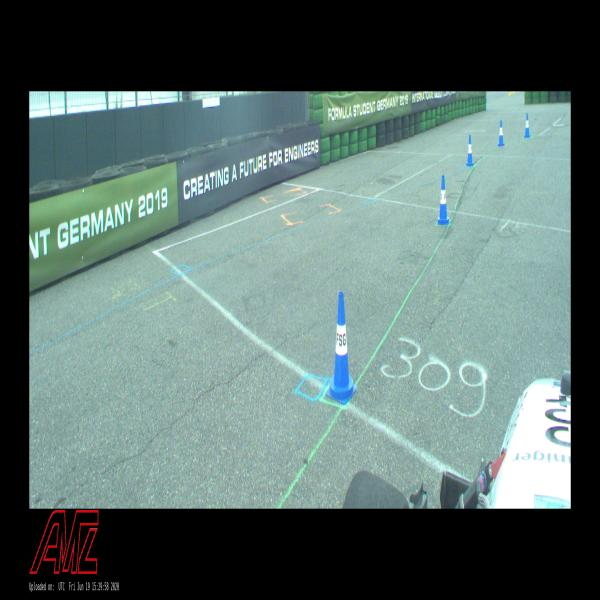blue_cone: (326, 291, 357, 406), (437, 176, 449, 226), (466, 134, 474, 167), (497, 120, 505, 147), (524, 112, 531, 139)
